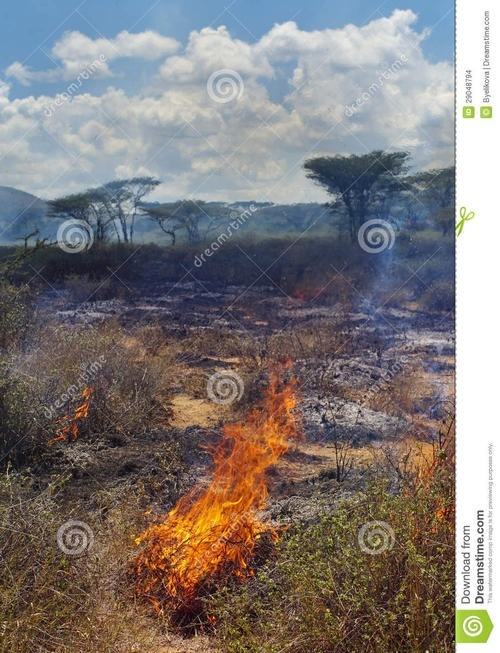fire: (135, 351, 311, 606), (392, 435, 453, 532), (52, 386, 95, 442)
